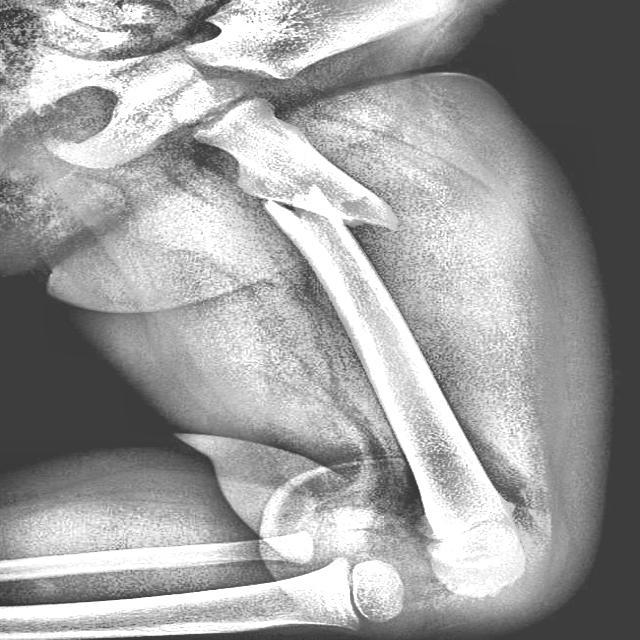fracture: (257, 184, 402, 230)
